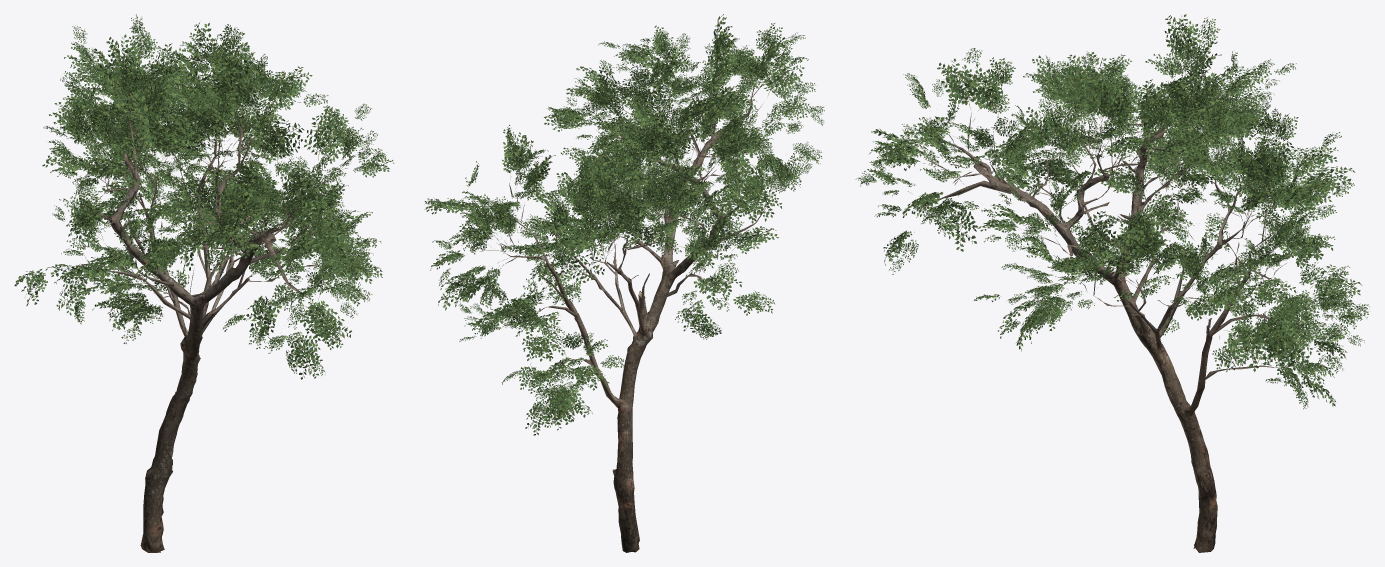
File: PineHillMatureBroadleaf.glb
3 renders of one model, left to right at view 1: azimuth 30°, elevation 25°; view 2: azimuth 150°, elevation 25°; view 3: azimuth 270°, elevation 25°, orthographic. The views are drawn at different scales.
Parts seen in each view (by area): view 1: PolyHaven Tree Small 02 • Wodra broadleaf; view 2: PolyHaven Tree Small 02 • Wodra broadleaf; view 3: PolyHaven Tree Small 02 • Wodra broadleaf.
Part boxes in pixels (box(x1,y1,x2,y2)): PolyHaven Tree Small 02 • Wodra broadleaf: box(14, 14, 394, 552); PolyHaven Tree Small 02 • Wodra broadleaf: box(424, 14, 824, 552); PolyHaven Tree Small 02 • Wodra broadleaf: box(855, 14, 1369, 552).
Bounding box in the file's own units: 5.84 × 9.13 × 8.59.
3 materials, 3 textured.
